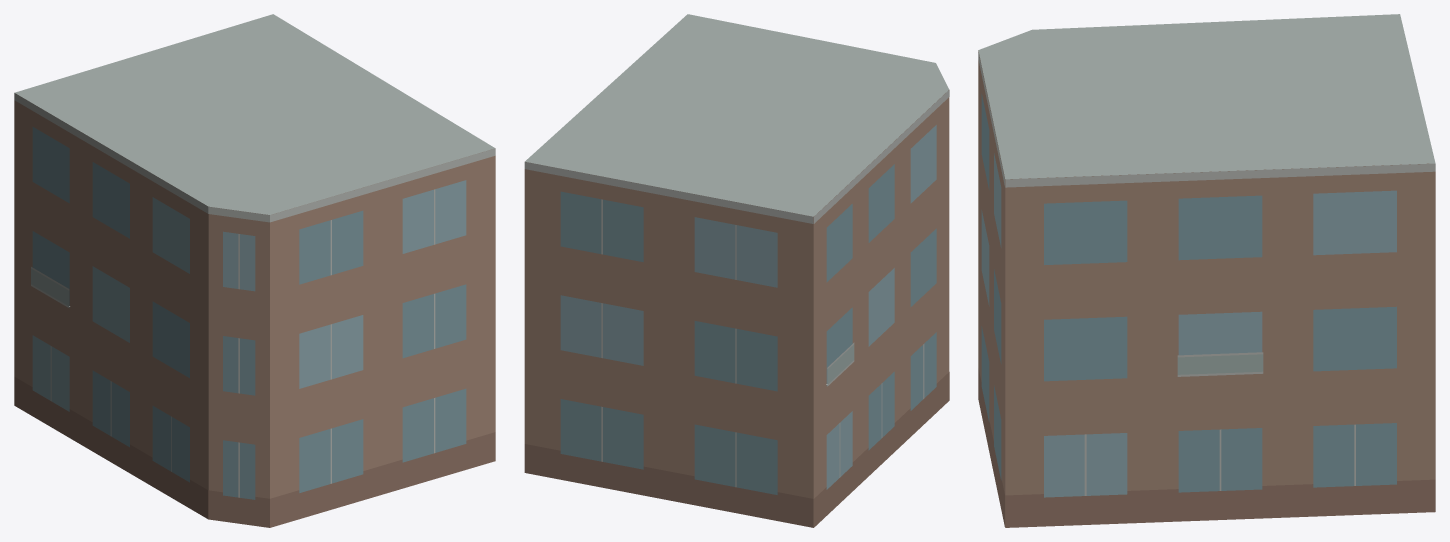
File: survey-upis-32633517.glb
3 views of the same model, side by side, from view 1: azimuth 30°, elevation 25°; view 2: azimuth 150°, elevation 25°; view 3: azimuth 270°, elevation 25° (orthographic). The views are drawn at different scales.
Parts seen in each view (by area): view 1: survey-upis-32633517.tmp; view 2: survey-upis-32633517.tmp; view 3: survey-upis-32633517.tmp.
Boxes of the visible parts, left/top/right/bottom form: survey-upis-32633517.tmp: left=14, top=14, right=495, bottom=527; survey-upis-32633517.tmp: left=524, top=14, right=949, bottom=527; survey-upis-32633517.tmp: left=978, top=14, right=1435, bottom=527.
Bounding box in the file's own units: 10.48 × 10.3 × 12.26.
